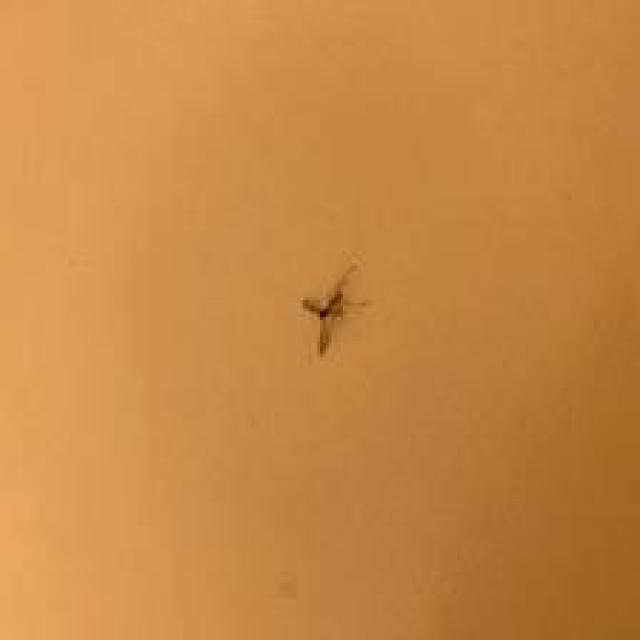Culex: (299, 263, 370, 357)
